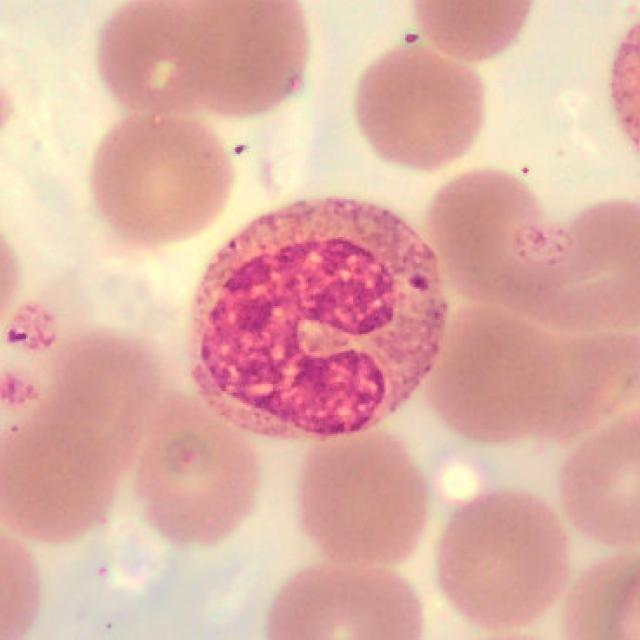Bastonete: (184, 199, 447, 441)
